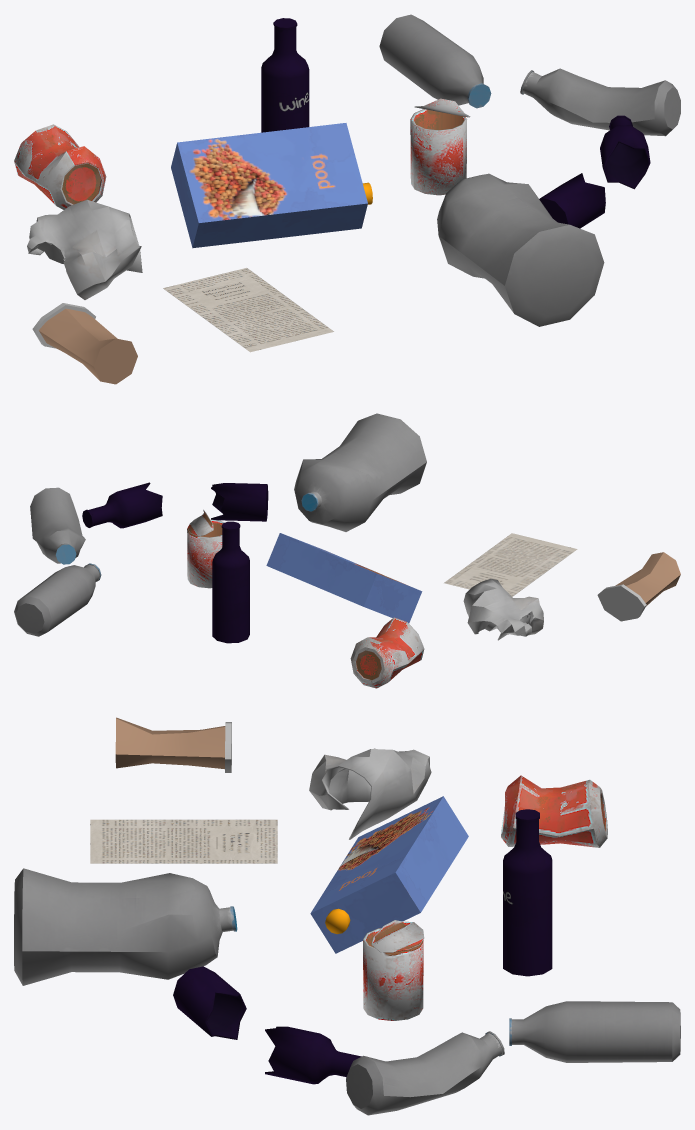
The model's file is Trash.fbx.
3 renders of one model, top to bottom at view 1: azimuth 30°, elevation 25°; view 2: azimuth 150°, elevation 25°; view 3: azimuth 270°, elevation 25°, orthographic. The views are drawn at different scales.
Visible parts, largest first — view 1: trashes.015, trashes.016, trashes.002, trashes, trashes.013, trashes.009, trashes.020, trashes.007, trashes.011, trashes.012, trashes.006; view 2: trashes.016, trashes.015, trashes.007, trashes.002, trashes.006, trashes.009, trashes, trashes.020, trashes.013, trashes.012, trashes.011; view 3: trashes.016, trashes.015, trashes.009, trashes.002, trashes.013, trashes.007, trashes.006, trashes, trashes.011, trashes.020, trashes.012.
Part boxes in pixels (bbox=[...]): trashes.015: bbox=[171, 123, 372, 248]; trashes.016: bbox=[437, 173, 604, 326]; trashes.002: bbox=[163, 268, 333, 352]; trashes: bbox=[27, 199, 142, 299]; trashes.013: bbox=[520, 68, 680, 136]; trashes.009: bbox=[379, 14, 491, 108]; trashes.020: bbox=[14, 124, 106, 209]; trashes.007: bbox=[539, 115, 650, 228]; trashes.011: bbox=[410, 98, 470, 195]; trashes.012: bbox=[32, 303, 137, 384]; trashes.006: bbox=[261, 18, 309, 132]; trashes.016: bbox=[294, 413, 426, 531]; trashes.015: bbox=[266, 533, 422, 623]; trashes.007: bbox=[82, 482, 268, 528]; trashes.002: bbox=[444, 533, 577, 596]; trashes.006: bbox=[212, 521, 249, 643]; trashes.009: bbox=[14, 563, 101, 636]; trashes: bbox=[463, 578, 543, 640]; trashes.020: bbox=[350, 617, 424, 688]; trashes.013: bbox=[30, 487, 85, 564]; trashes.012: bbox=[597, 552, 680, 621]; trashes.011: bbox=[187, 509, 224, 588]; trashes.016: bbox=[14, 868, 237, 985]; trashes.015: bbox=[310, 796, 468, 953]; trashes.009: bbox=[509, 1001, 680, 1062]; trashes.002: bbox=[90, 819, 277, 863]; trashes.013: bbox=[346, 1031, 504, 1115]; trashes.007: bbox=[173, 966, 361, 1084]; trashes.006: bbox=[503, 809, 552, 976]; trashes: bbox=[309, 748, 431, 839]; trashes.011: bbox=[363, 920, 424, 1020]; trashes.020: bbox=[501, 775, 607, 847]; trashes.012: bbox=[115, 717, 231, 772].
Bounding box in the file's own units: 710 × 134 × 535.
Materials: 1 (1 with a texture image).
